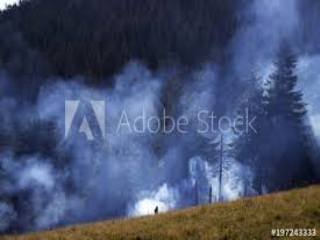smoke: (7, 143, 92, 211), (201, 135, 264, 201), (120, 180, 192, 217)
